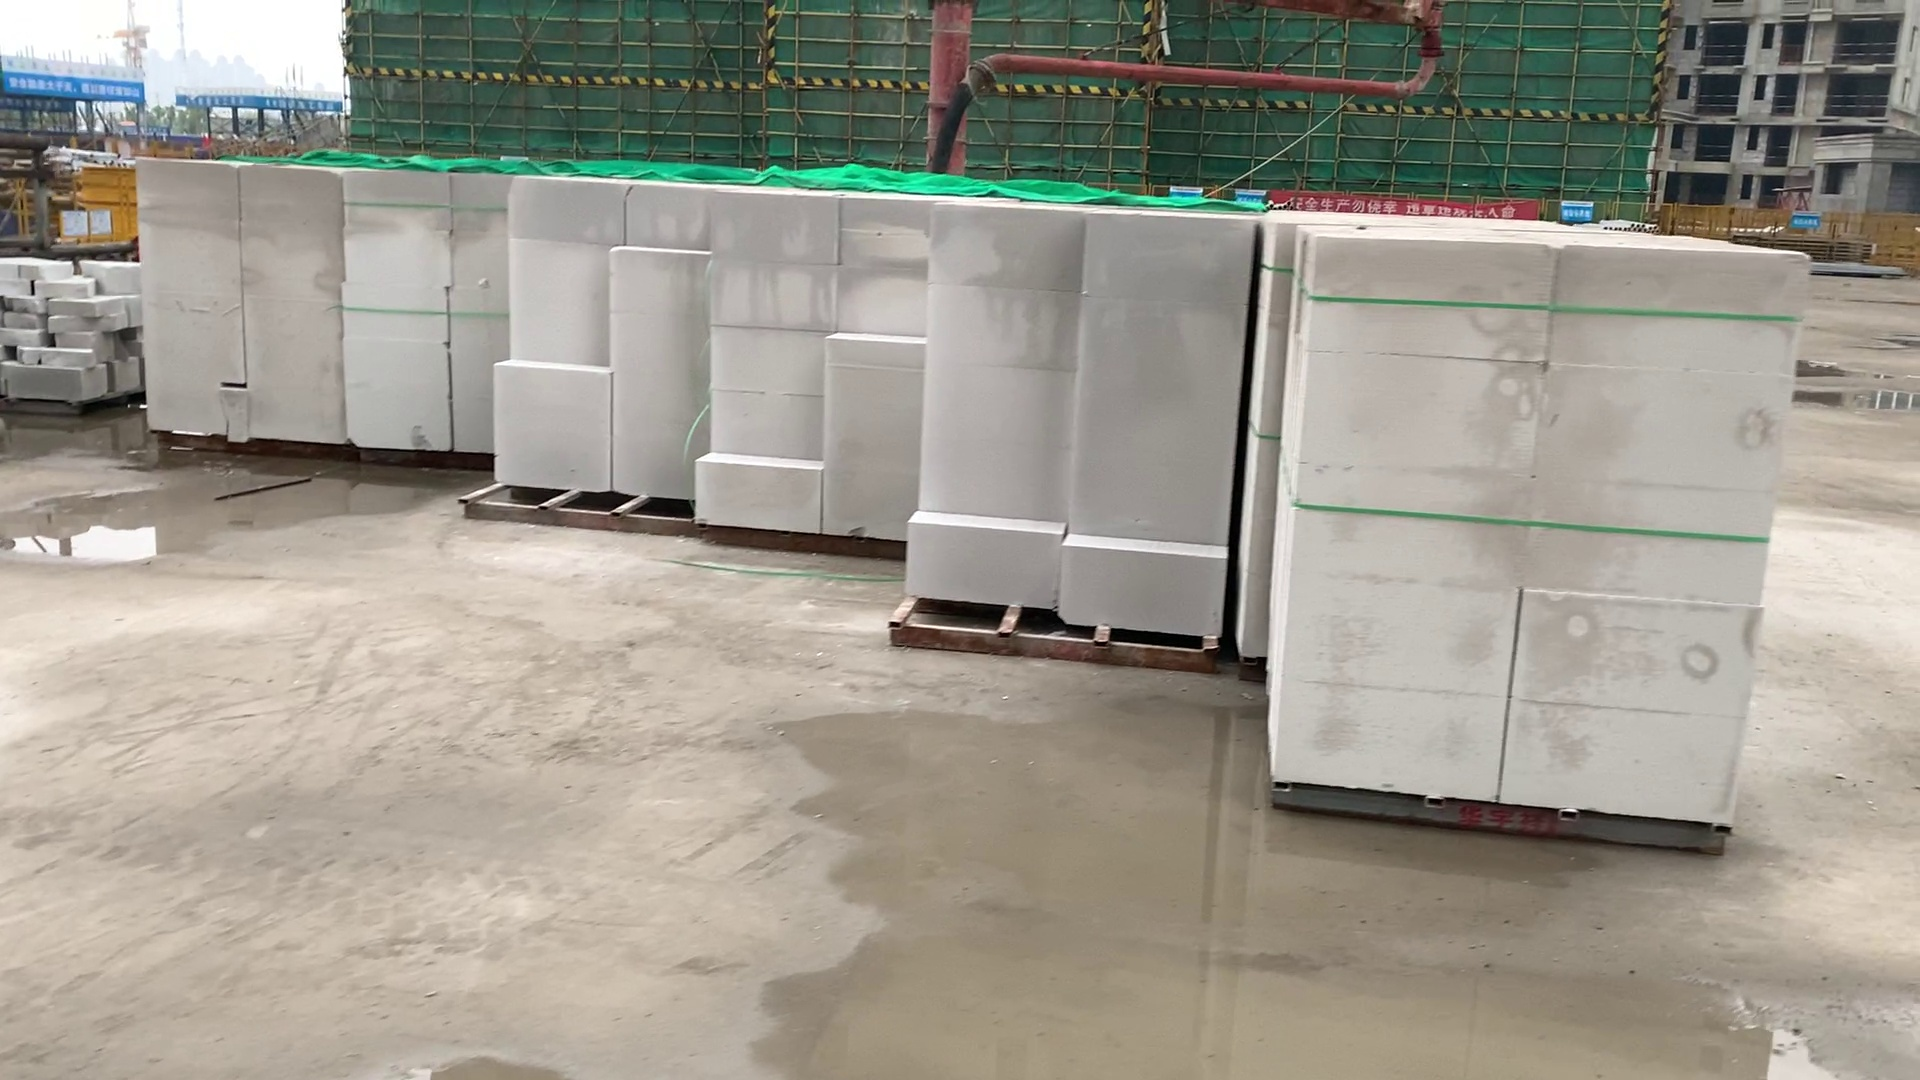brickwork: (1287, 225, 1803, 843), (919, 200, 1233, 647), (702, 183, 911, 543), (506, 179, 705, 512), (137, 157, 349, 446), (345, 167, 497, 460)
